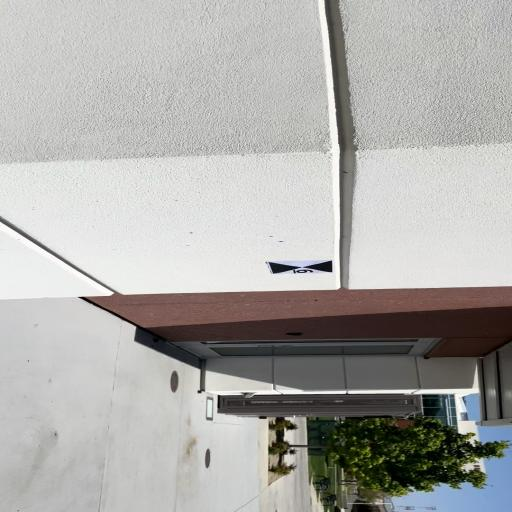target6: (266, 259, 333, 275)
